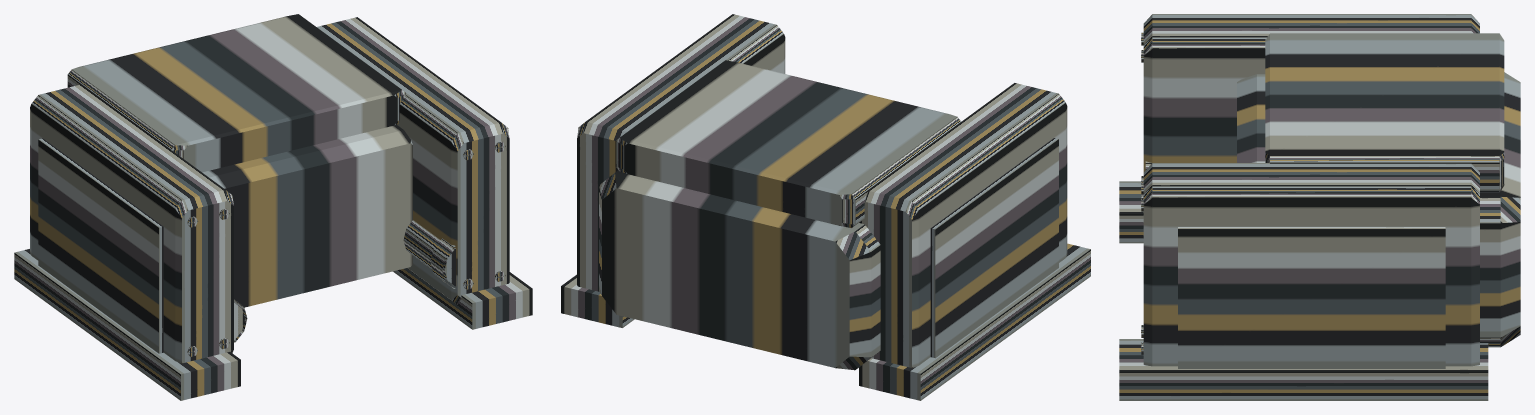
File: CarrierHeavyTurretHead.obj
3 views of the same model, side by side, from view 1: azimuth 30°, elevation 25°; view 2: azimuth 150°, elevation 25°; view 3: azimuth 270°, elevation 25° (orthographic). The views are drawn at different scales.
Visible parts, largest first — view 1: CarrierHeavyTurretHead; view 2: CarrierHeavyTurretHead; view 3: CarrierHeavyTurretHead.
Part boxes in pixels (x1,y1,x2,y2): CarrierHeavyTurretHead: (14, 14, 532, 400); CarrierHeavyTurretHead: (561, 14, 1090, 400); CarrierHeavyTurretHead: (1119, 14, 1520, 400).
Size of the model in its own units: 2.22 by 1.15 by 1.98.
Materials: 1 (1 with a texture image).
